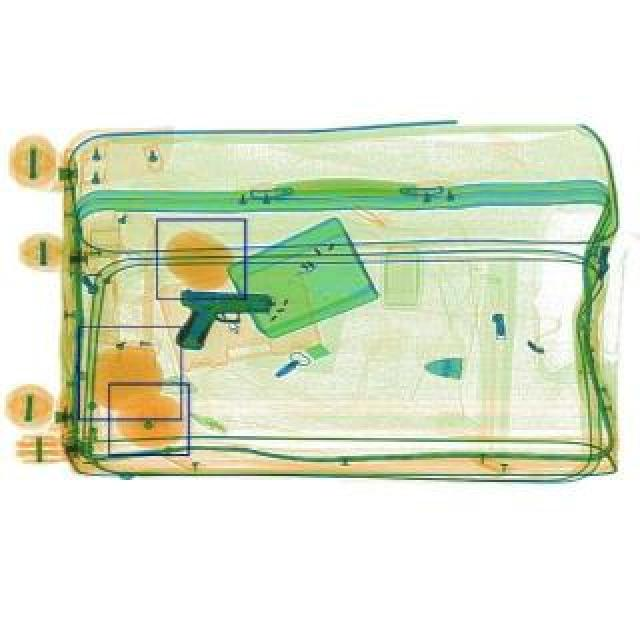gun: (176, 290, 272, 350)
